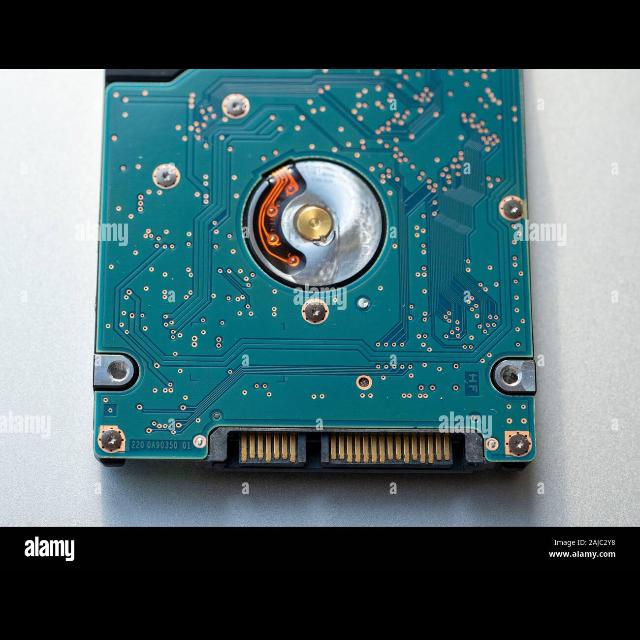HDD: (90, 69, 542, 479)
